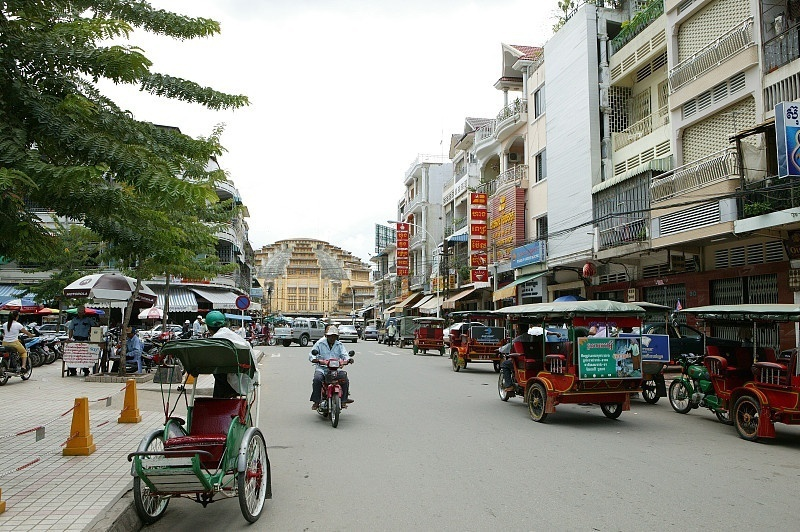non-vehicle: (310, 353, 353, 424), (0, 336, 31, 383)
